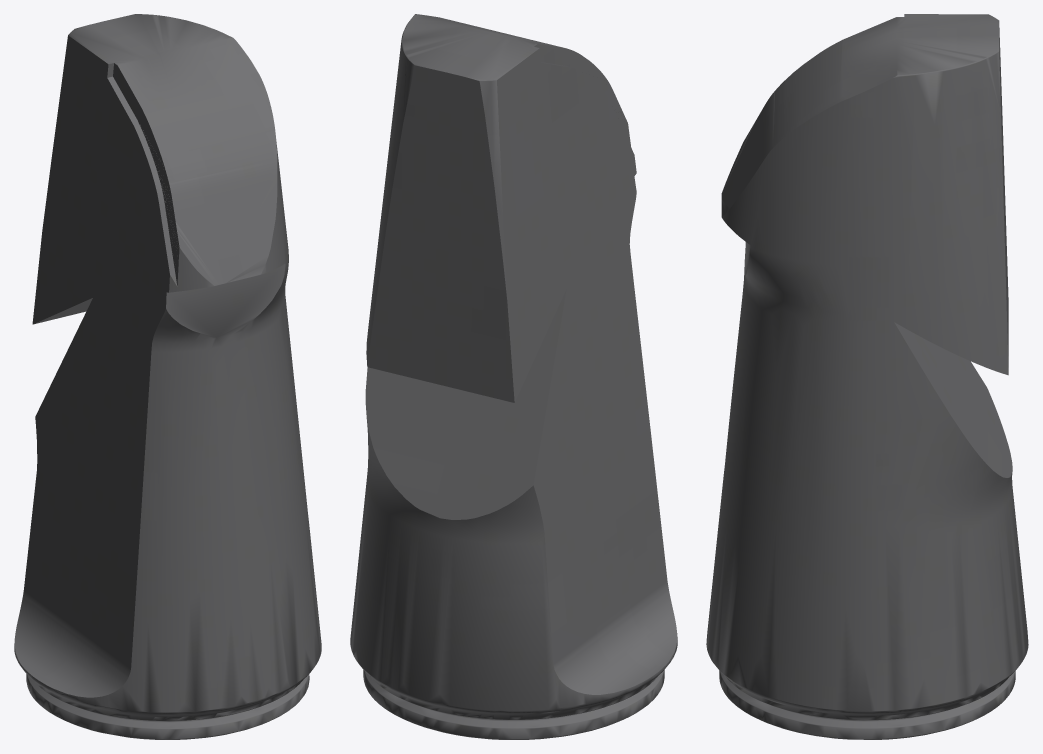
Rendered from knight-black.glb.
3 views of the same model, side by side, from view 1: azimuth 30°, elevation 25°; view 2: azimuth 150°, elevation 25°; view 3: azimuth 270°, elevation 25° (orthographic). The views are drawn at different scales.
Parts seen in each view (by area): view 1: 04_jezdec_cerna; view 2: 04_jezdec_cerna; view 3: 04_jezdec_cerna.
Boxes of the visible parts, <box> form: 04_jezdec_cerna: <box>14,14,321,739</box>; 04_jezdec_cerna: <box>350,14,677,739</box>; 04_jezdec_cerna: <box>706,14,1028,739</box>.
Bounding box in the file's own units: 0.6396 × 1.41 × 0.6396.
1 material, 1 textured.
